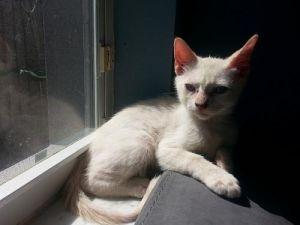siamese: (166, 23, 262, 134)
